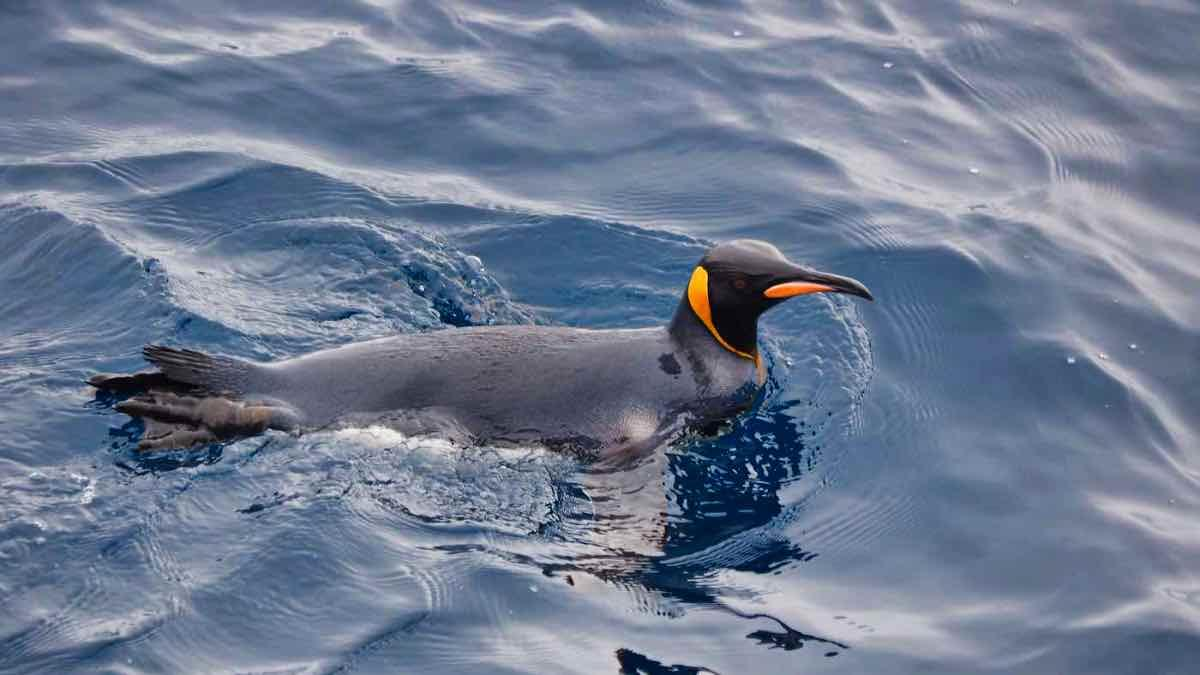king: (75, 170, 883, 533)
